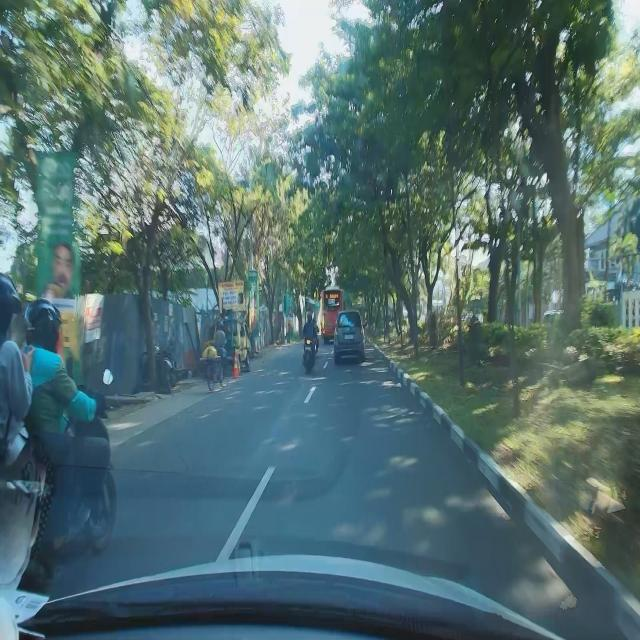car: (334, 310, 366, 366)
